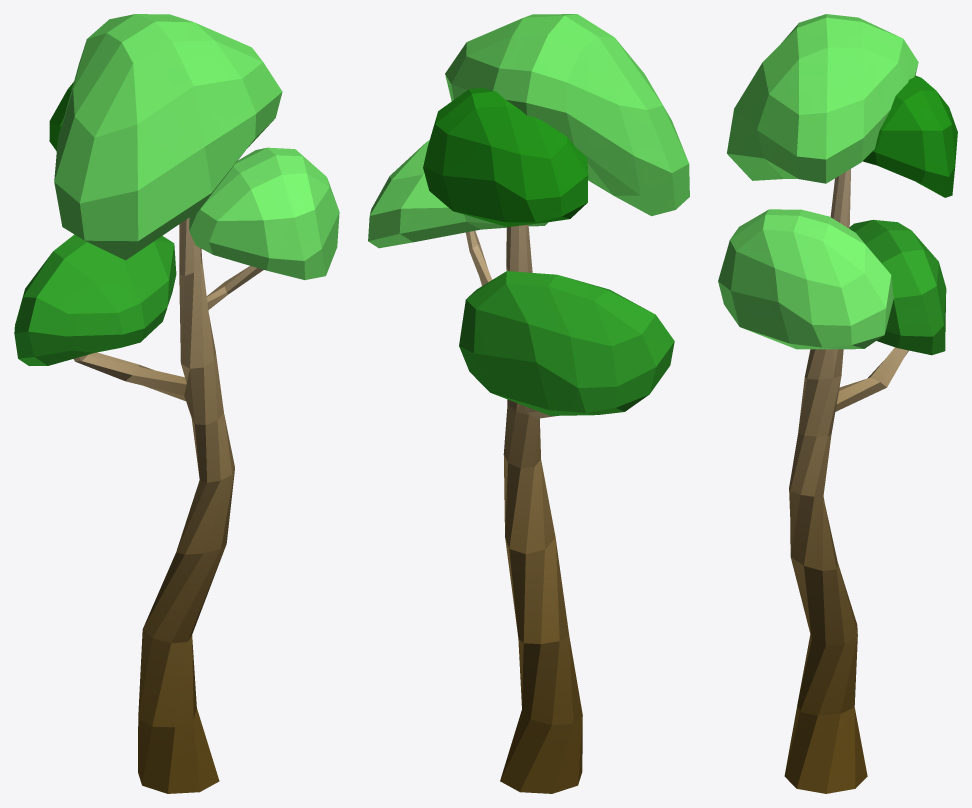
Rendered from Tree_Long1.fbx.
3 renders of one model, left to right at view 1: azimuth 30°, elevation 25°; view 2: azimuth 150°, elevation 25°; view 3: azimuth 270°, elevation 25°, orthographic. The views are drawn at different scales.
Parts seen in each view (by area): view 1: Leaf_Top, Long_Tree; view 2: Leaf_Top, Long_Tree; view 3: Leaf_Top, Long_Tree.
Boxes of the visible parts, x1=… form: Leaf_Top: x1=14, y1=14, x2=339, y2=365; Long_Tree: x1=73, y1=217, x2=263, y2=793; Leaf_Top: x1=368, y1=14, x2=689, y2=415; Long_Tree: x1=465, y1=224, x2=582, y2=793; Leaf_Top: x1=718, y1=14, x2=957, y2=355; Long_Tree: x1=784, y1=169, x2=908, y2=793.
Size of the model in its own units: 366 by 895 by 260.
